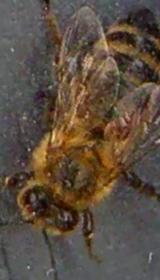varroa_mite: (102, 106, 134, 146)
